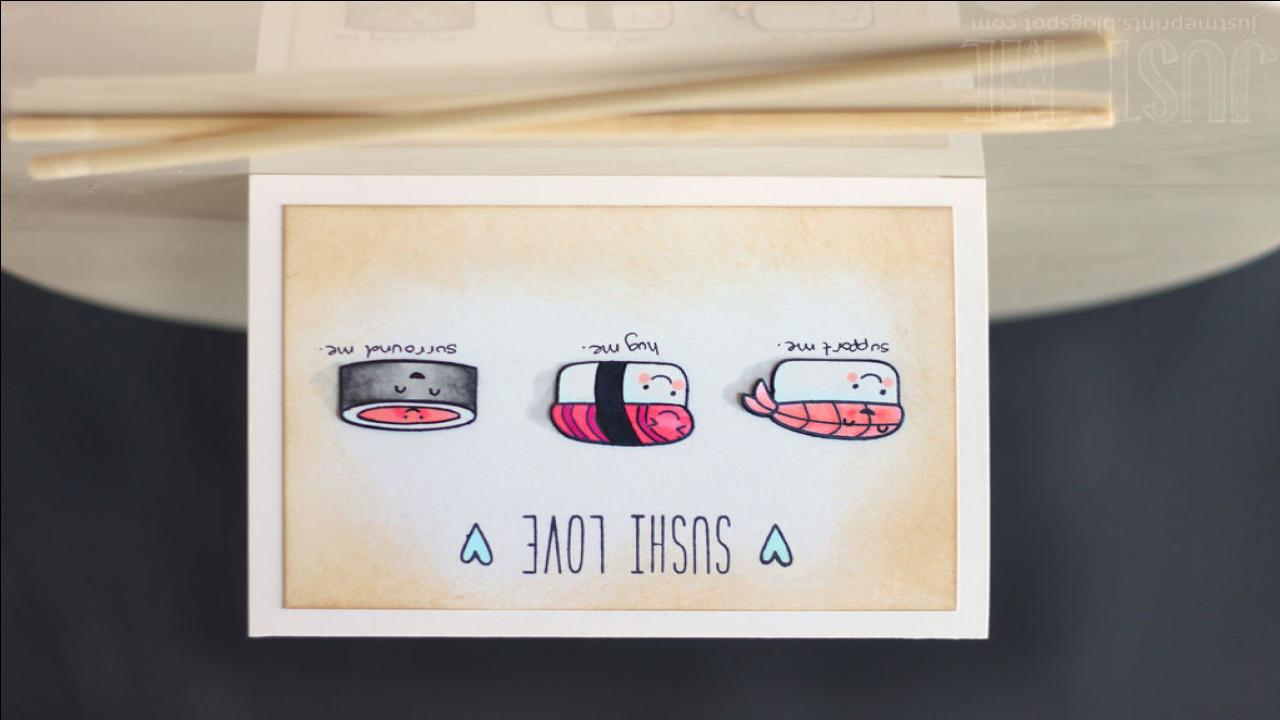chopstick: (3, 31, 1103, 178)
